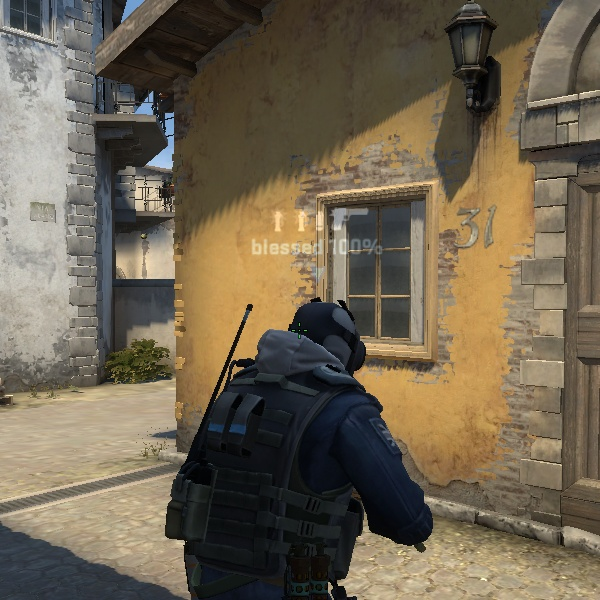ct_body: (136, 305, 480, 592)
